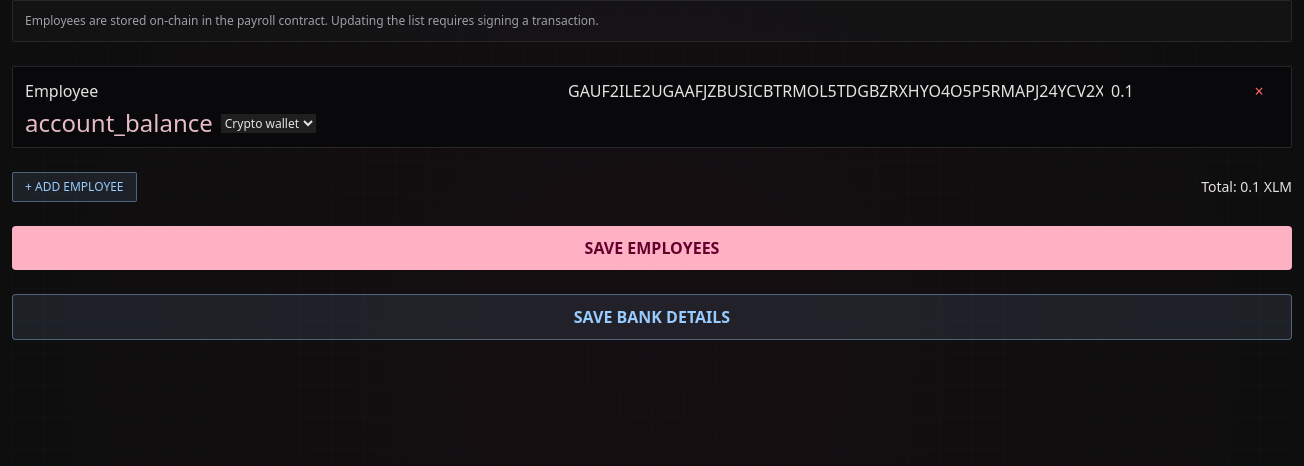
Test: payroll conservative request recovery › records prepare before a potentially writing request and never repeats a lost response
What coordinates should you click on to do the following:
click the button "SAVE EMPLOYEES"
I would click on:
 (652, 248)
Its box is [12, 226, 1292, 270].
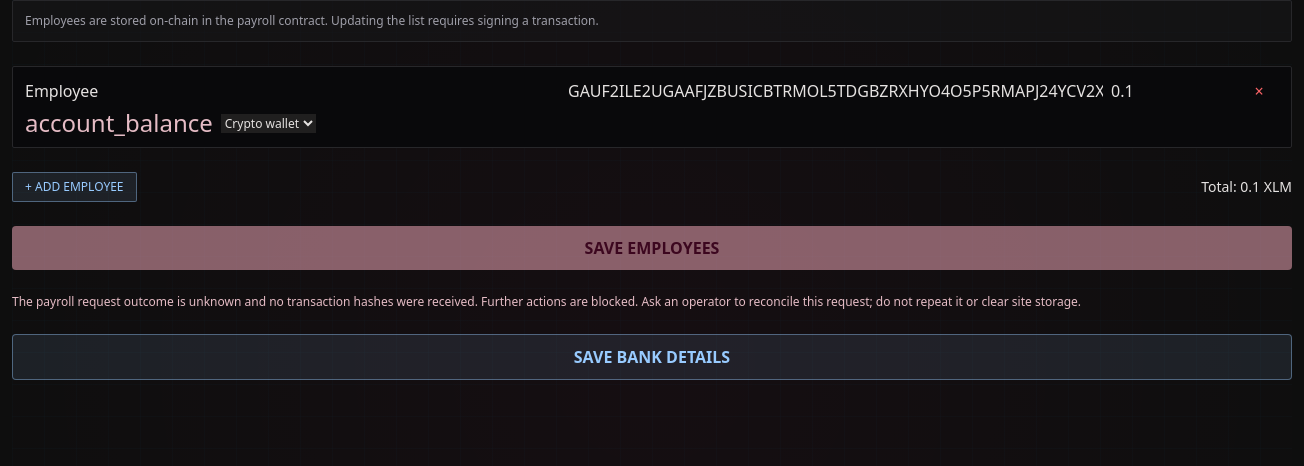
Expected: the message shows "no transaction hashes", [12, 293, 1081, 310]
Expected: the button "SAVE EMPLOYEES" is disabled, [12, 226, 1292, 270]
